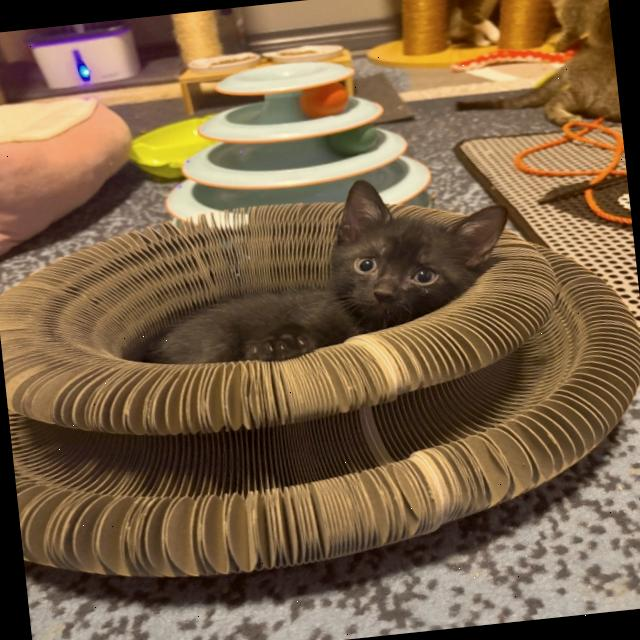bombay_cat: (302, 160, 530, 342)
